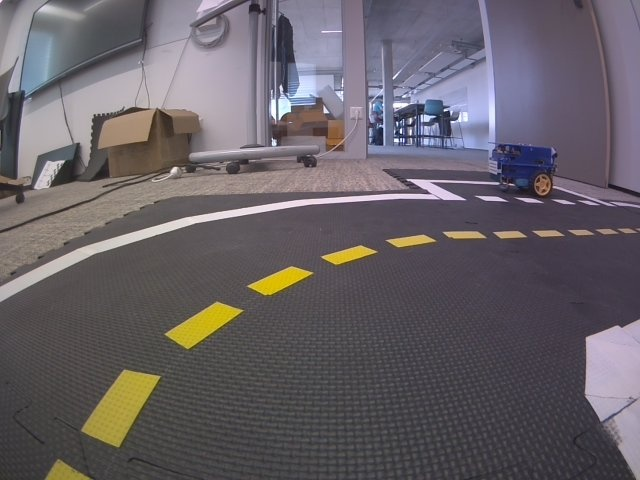Bot: (488, 141, 558, 196)
occupiedSlot: (406, 178, 613, 206)
